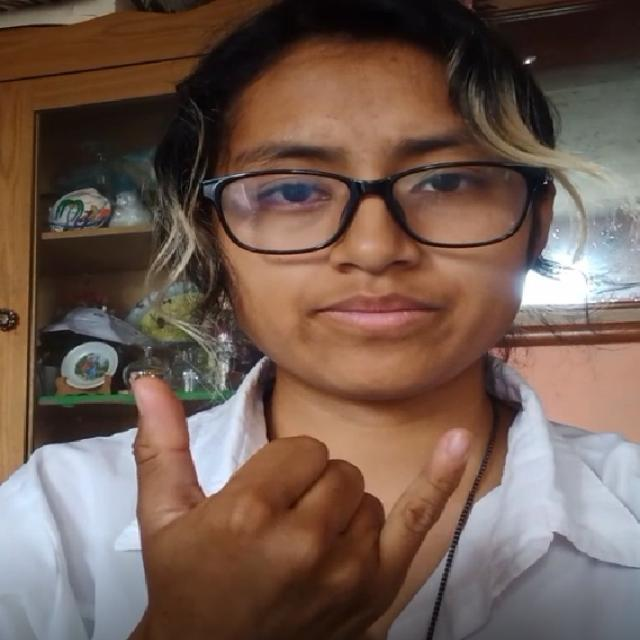Y: (103, 351, 533, 640)
